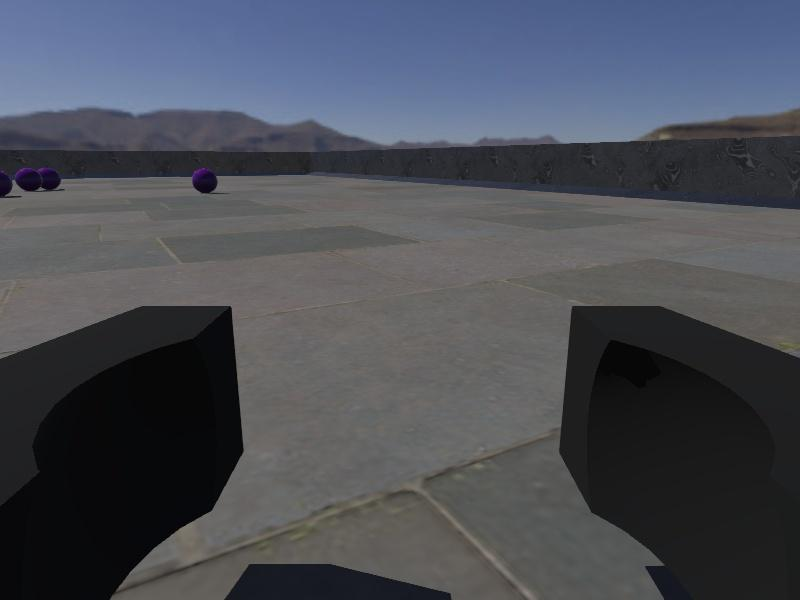violet ball: (191, 167, 218, 195), (16, 167, 42, 192)
